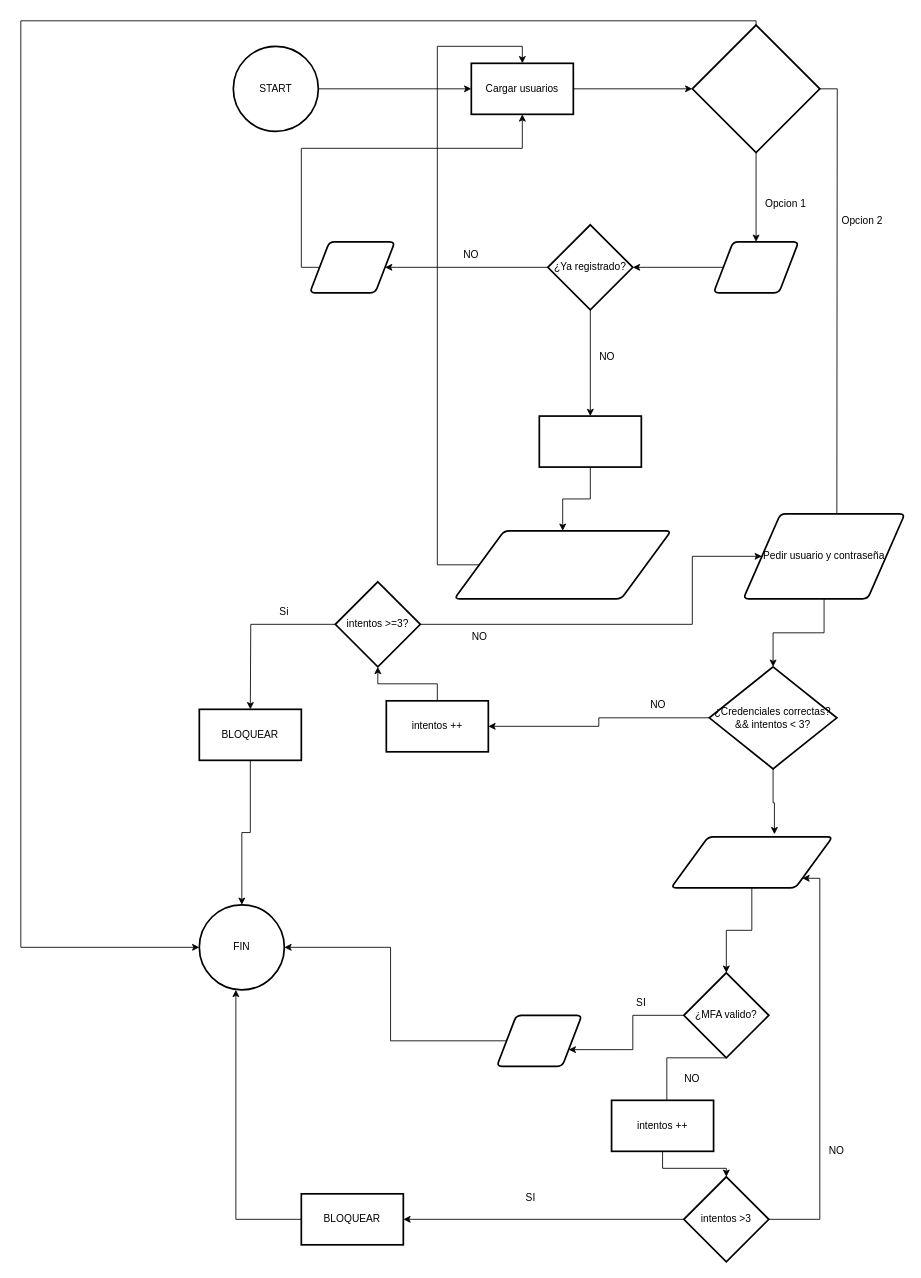
Some shapes in this 921 by 1278 pixel diagram are drawn without their labels. Here are the shapes that lost their labels. From the top down, the centre of each, then its label:
pixel 755 88: 1. Añadir cuenta MFA(Correo) 2. Iniciar sesion 3.Salir
pixel 352 267: Print: No existe
pixel 755 267: Pedir correo
pixel 590 441: Registar/Guardar cuenta MFA
pixel 562 564: Mostrar codigo TOTP 6 digitos(Se actualzia cada 45Segudnos)
pixel 751 862: Introduce código MFA
pixel 539 1040: Print Has iniciado sesion!
